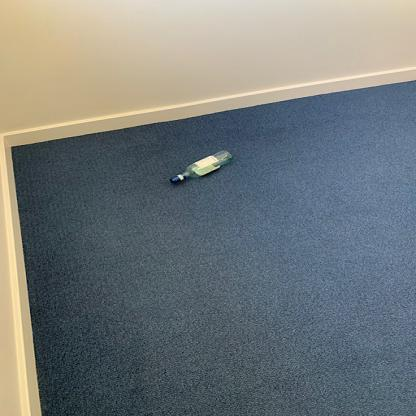trash: (172, 148, 236, 183)
